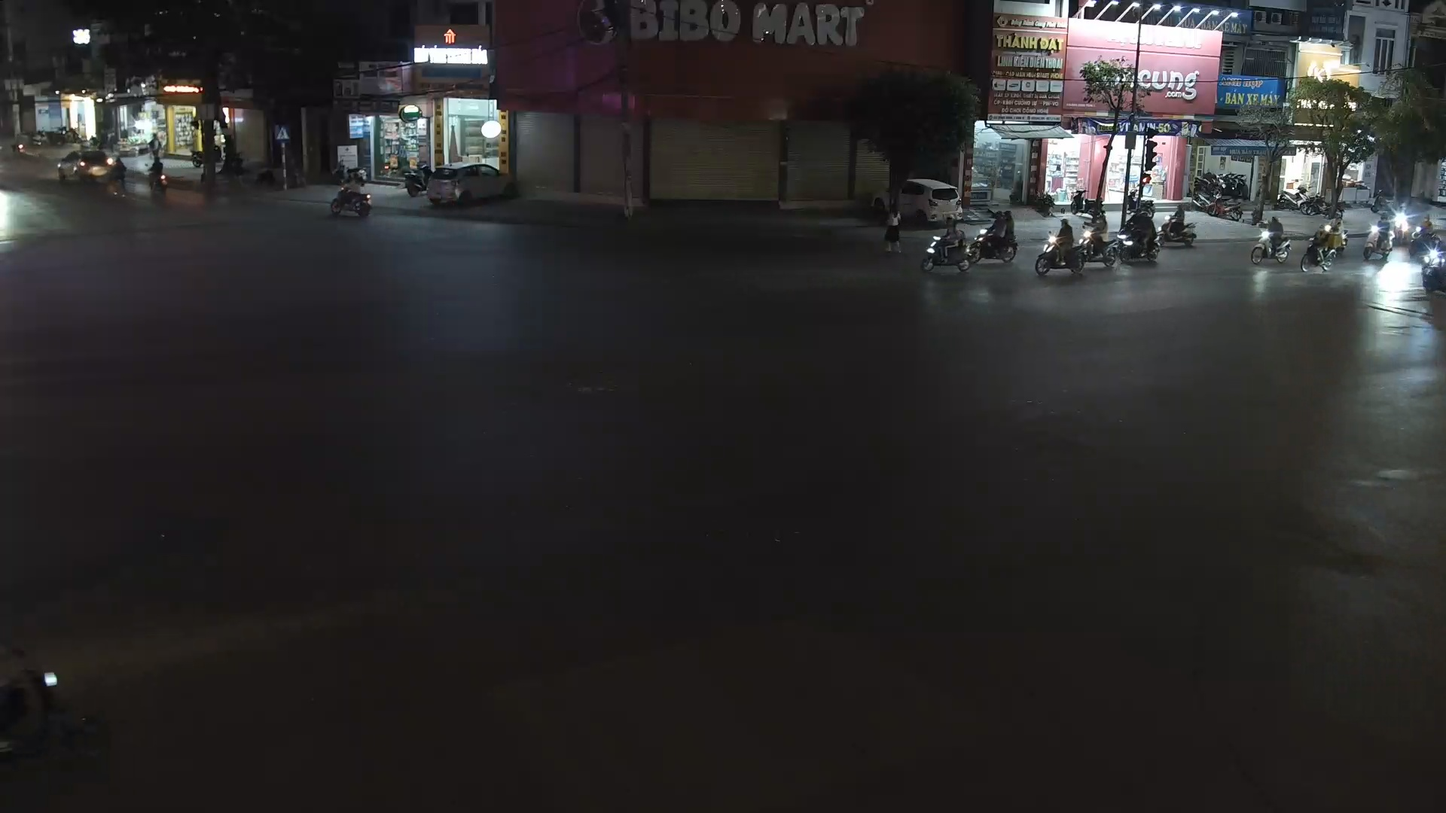motorbike: (1031, 215, 1090, 280), (919, 212, 975, 275), (968, 207, 1019, 267), (328, 172, 374, 220)
